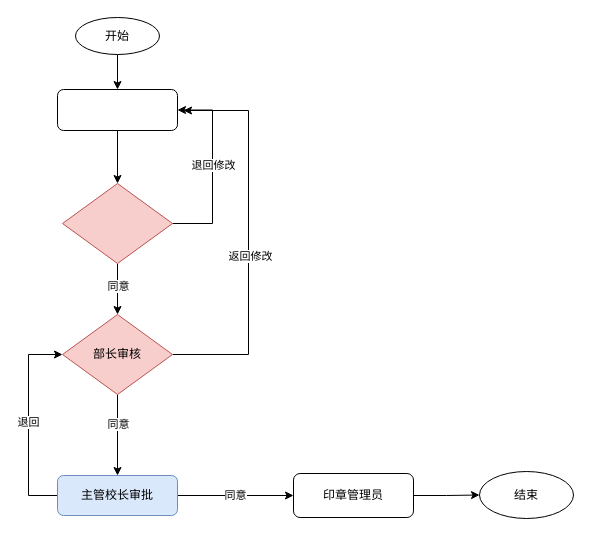
This 591x536 diagram has some shape labels left out. Here are the shapes that lost their labels. From the top down, the box of each, then its label:
(56, 88, 178, 130): 发起人创建
(62, 182, 172, 264): 主管审核
